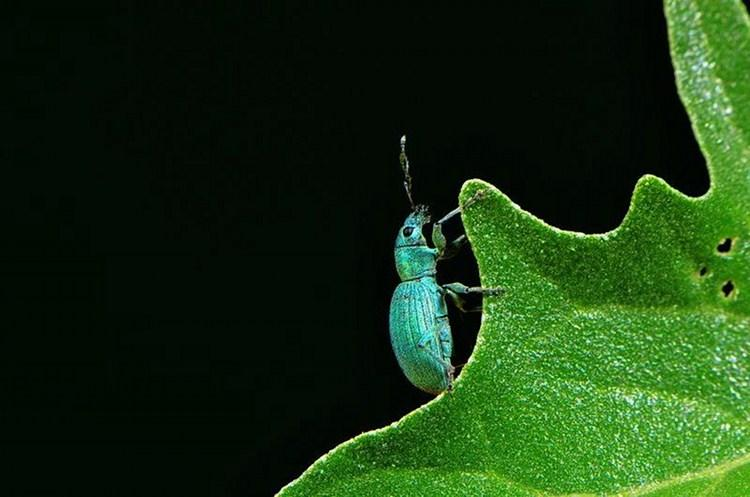Curculionidae: (388, 134, 505, 397)
